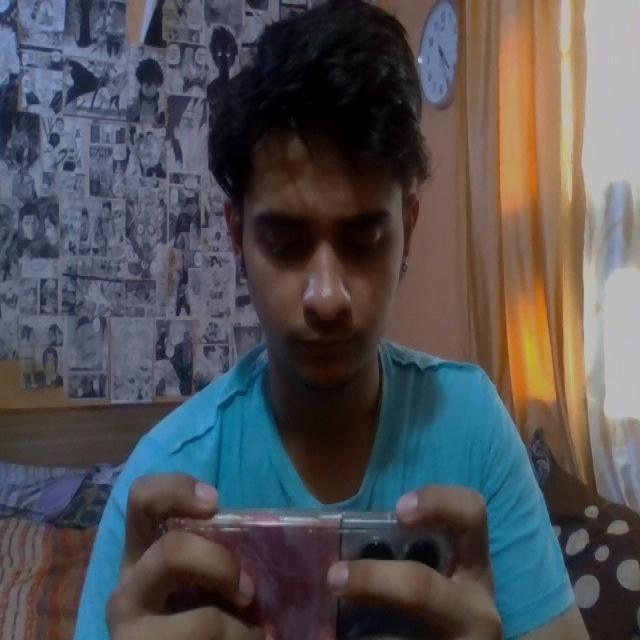phone: (145, 499, 472, 640)
using-phone: (71, 18, 587, 640)
